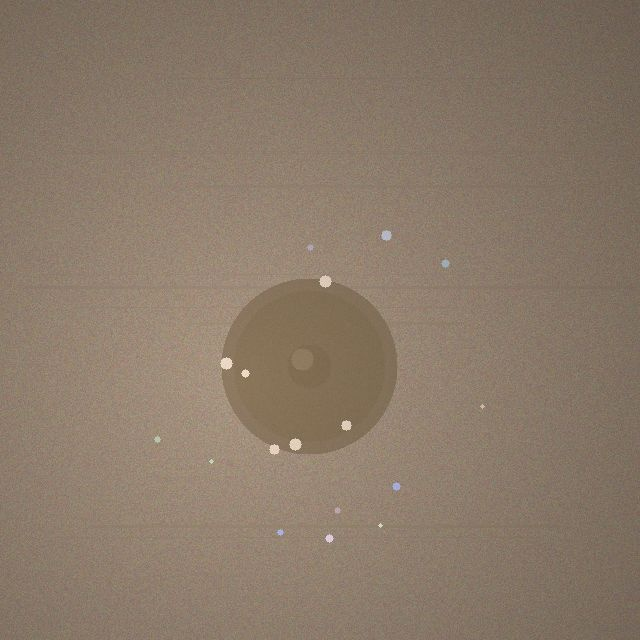overburn: (221, 278, 397, 454)
